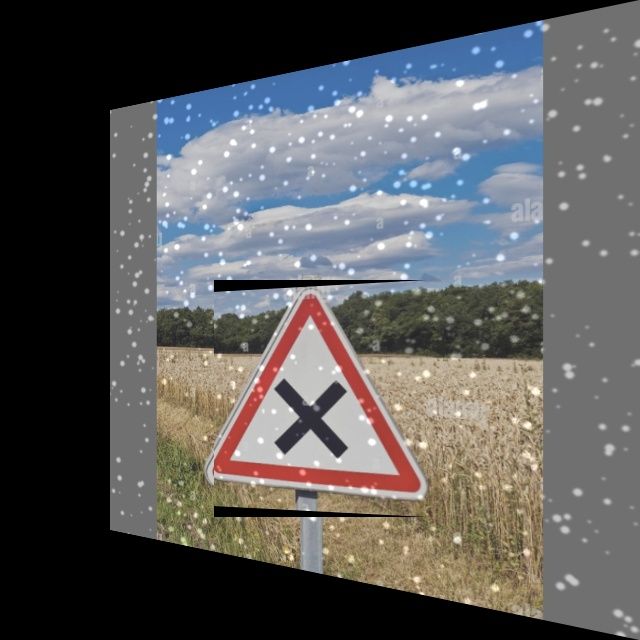Cross_Road: (214, 280, 427, 517)
